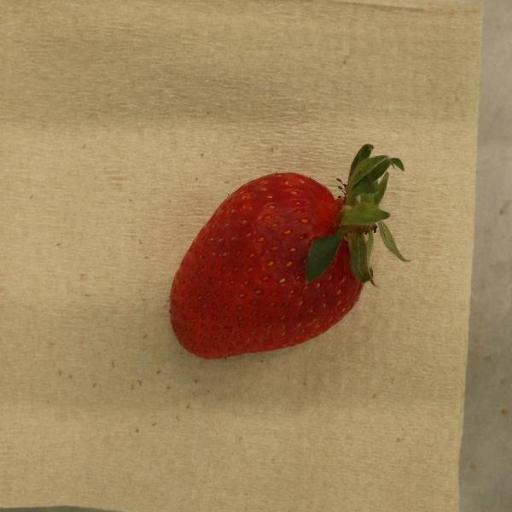Strawberry: (170, 145, 408, 361)
